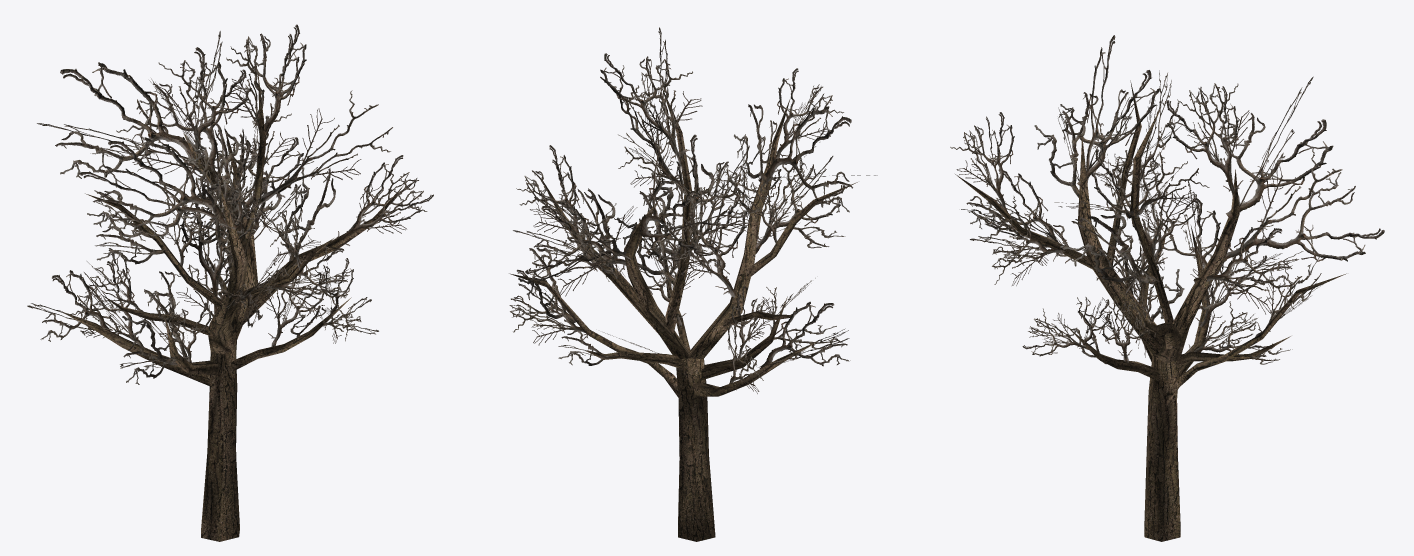
Rendered from Vegetation_Deadtree06.glb.
3 renders of one model, left to right at view 1: azimuth 30°, elevation 25°; view 2: azimuth 150°, elevation 25°; view 3: azimuth 270°, elevation 25°, orthographic. The views are drawn at different scales.
Parts seen in each view (by area): view 1: xiutz_deadtree06; view 2: xiutz_deadtree06; view 3: xiutz_deadtree06.
Part boxes in pixels (x1,y1,x2,y2): xiutz_deadtree06: (27, 24, 433, 541); xiutz_deadtree06: (509, 27, 877, 541); xiutz_deadtree06: (950, 35, 1384, 541).
Bounding box in the file's own units: 20.18 × 24.5 × 20.49.
Materials: 1 (1 with a texture image).
